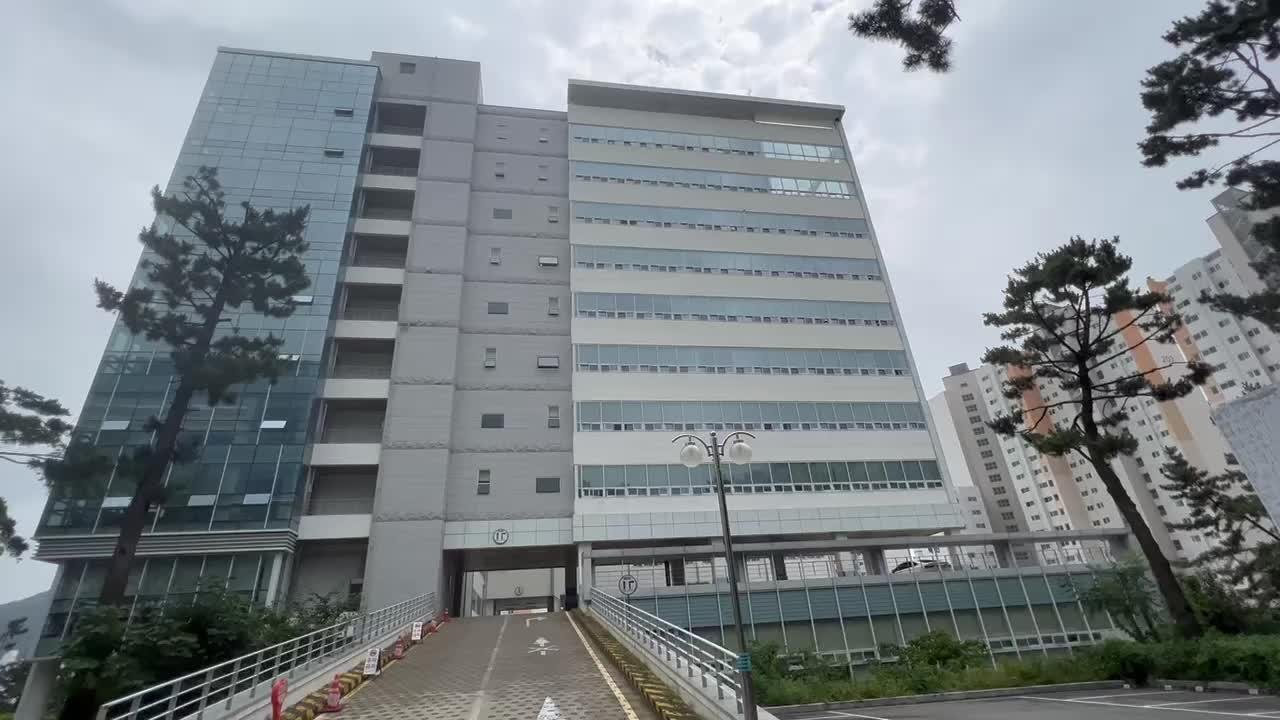building: (307, 50, 882, 429)
